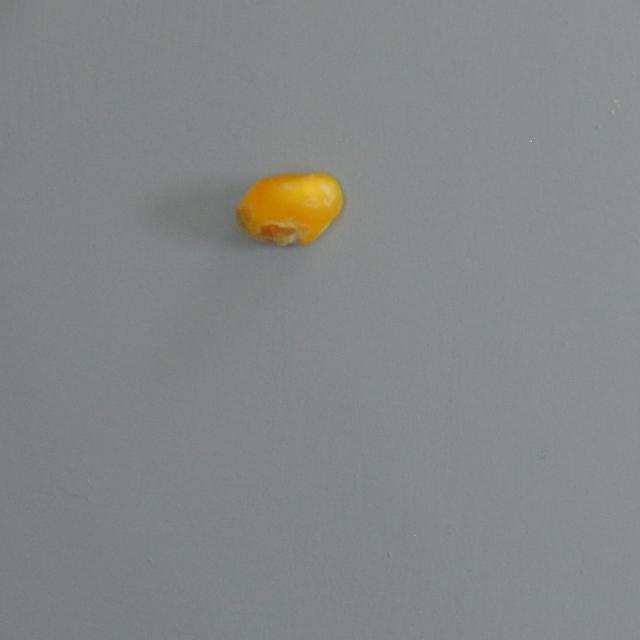dañado: (228, 156, 350, 256)
